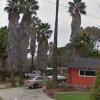Palm tree: (4, 2, 50, 67)
